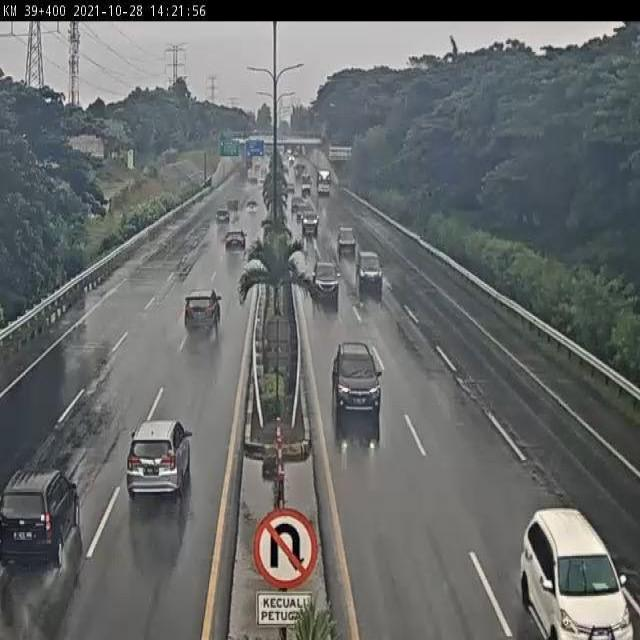car: (518, 502, 634, 640), (0, 457, 81, 571), (127, 420, 193, 501), (333, 344, 383, 415), (183, 287, 223, 337), (355, 251, 385, 296), (311, 257, 342, 296), (223, 224, 249, 256), (336, 227, 358, 257), (299, 209, 321, 236)
